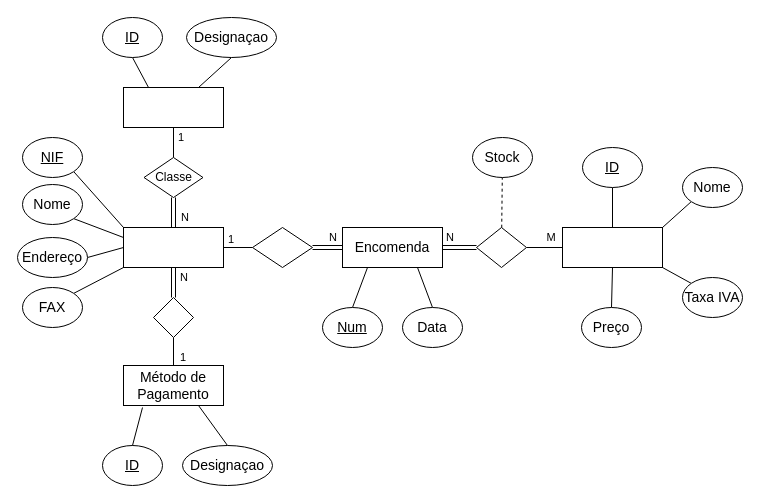
The diagram is 760 pixels wide and 503 high, and some of its shapes have lost their labels. The shapes that lost their labels are listed below. From the top down, each one's centre as x and y in pixels, then its label:
the point at 173,107: Tipo de Fornecedor
the point at 173,247: Fornecedor
the point at 282,247: Fornece
the point at 501,247: Contem
the point at 612,247: Produto
the point at 173,317: Usa
